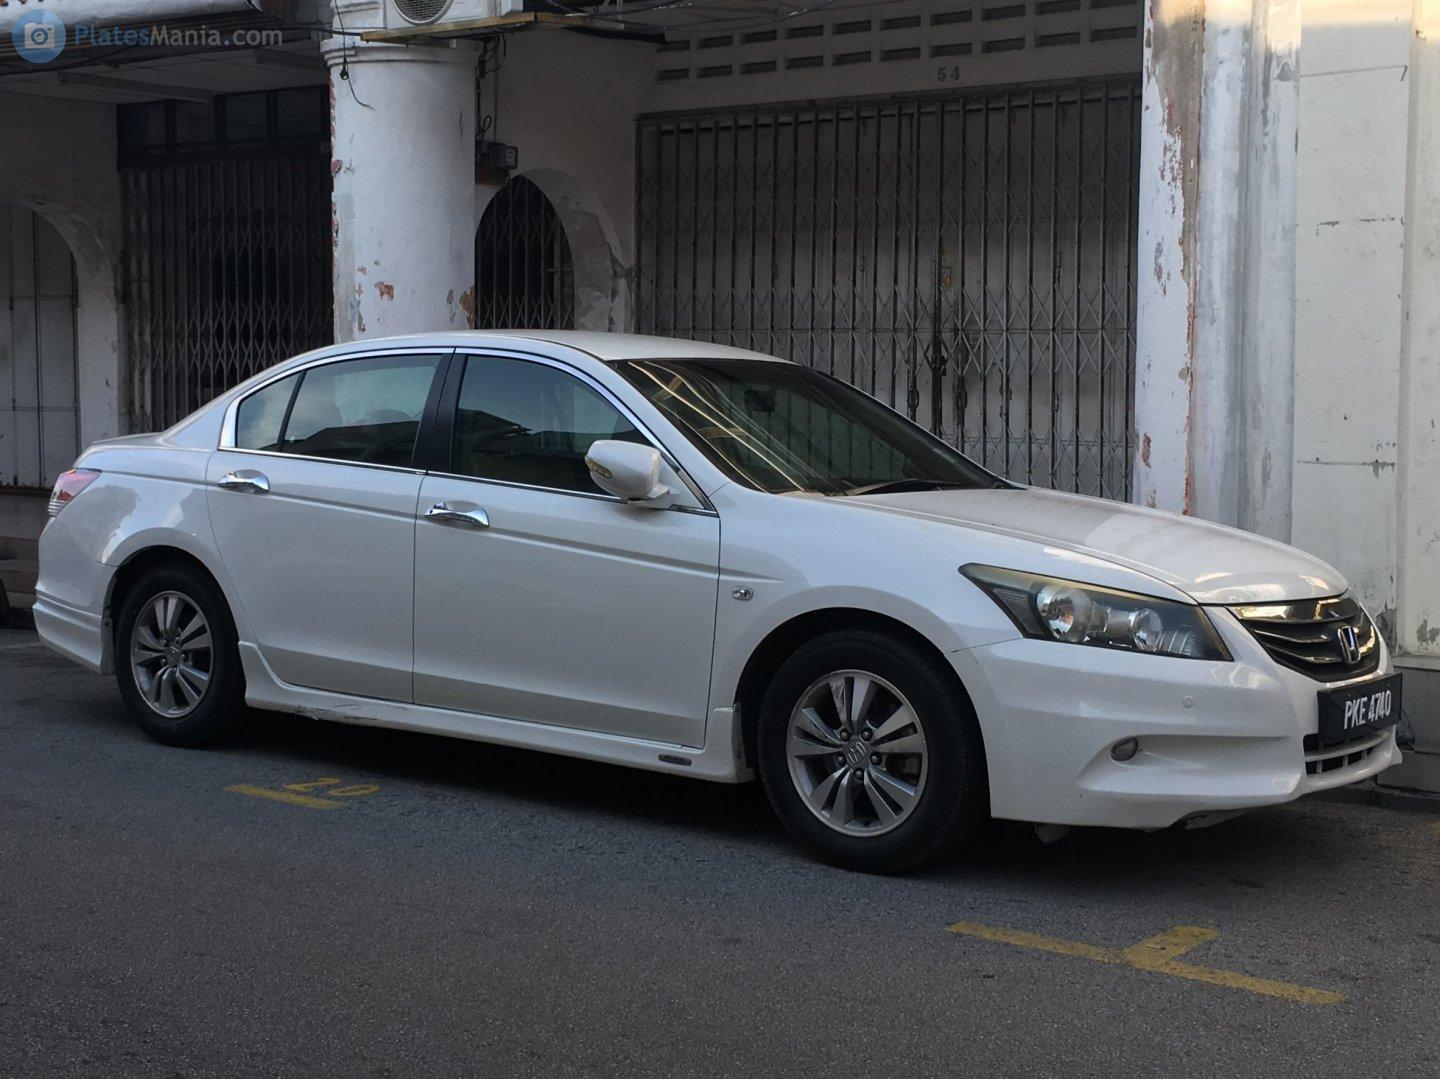License Plate: (1323, 675, 1403, 739)
